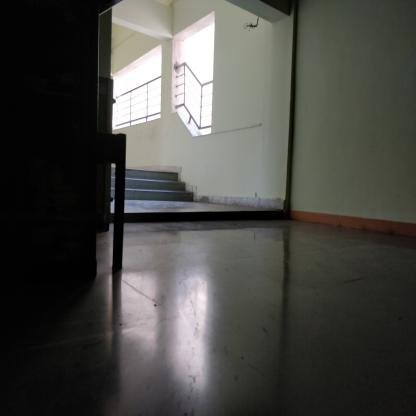stairs: (128, 169, 180, 204)
